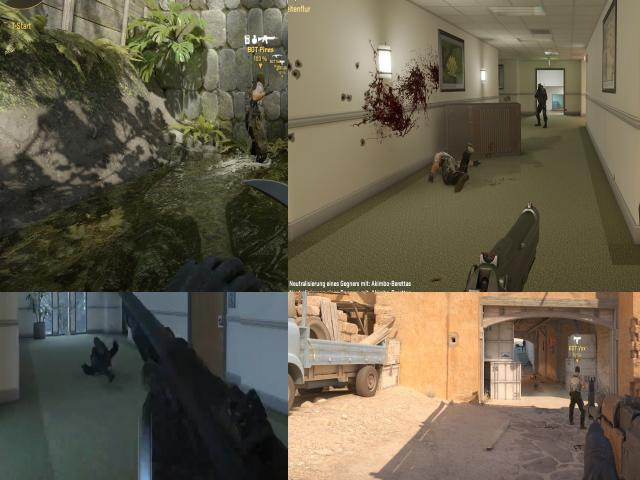CT: (536, 82, 546, 126), (522, 339, 527, 352)
CT-Head: (538, 84, 542, 90), (523, 340, 525, 342)
Dead: (82, 336, 120, 380), (429, 152, 472, 182), (534, 382, 542, 391), (526, 359, 534, 367), (530, 373, 538, 380), (516, 344, 522, 348)
T: (243, 71, 274, 170), (570, 365, 584, 427)
T-Head: (250, 72, 266, 92), (575, 366, 580, 375)
